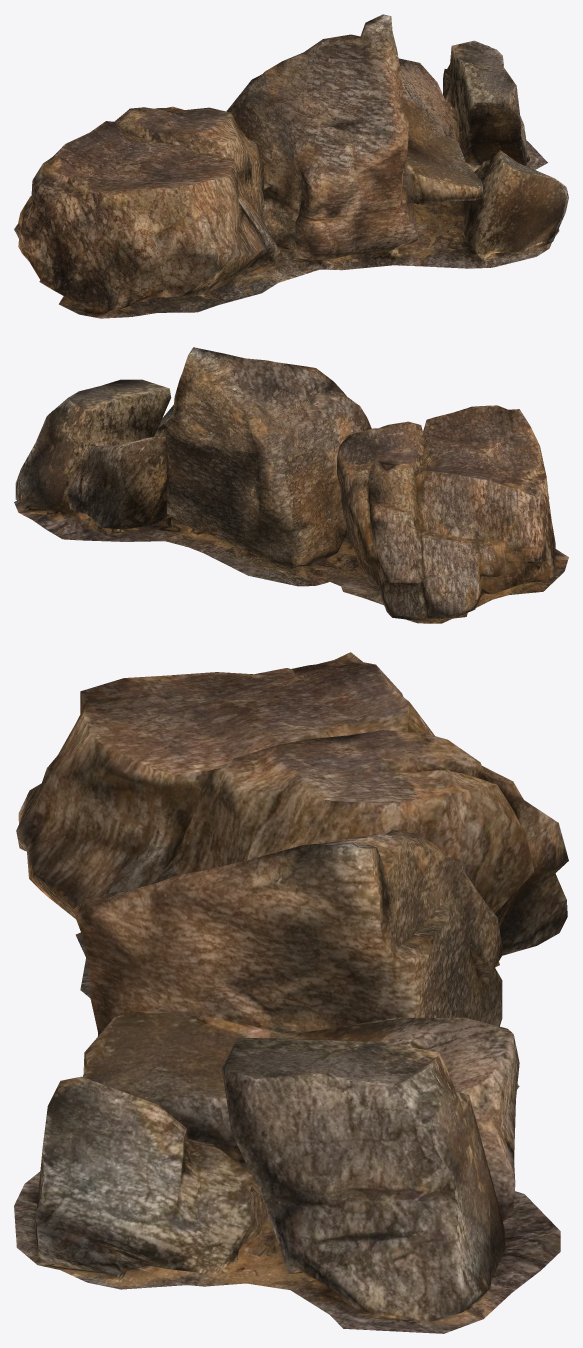
File: boulder_01.glb
3 renders of one model, top to bottom at view 1: azimuth 30°, elevation 25°; view 2: azimuth 150°, elevation 25°; view 3: azimuth 270°, elevation 25°, orthographic. The views are drawn at different scales.
Parts seen in each view (by area): view 1: boulder_02; view 2: boulder_02; view 3: boulder_02.
Boxes of the visible parts, <box> form: boulder_02: <box>14,14,568,318</box>; boulder_02: <box>14,347,568,623</box>; boulder_02: <box>14,652,568,1333</box>.
Bounding box in the file's own units: 2.51 × 0.8788 × 1.23.
Materials: 1 (1 with a texture image).
